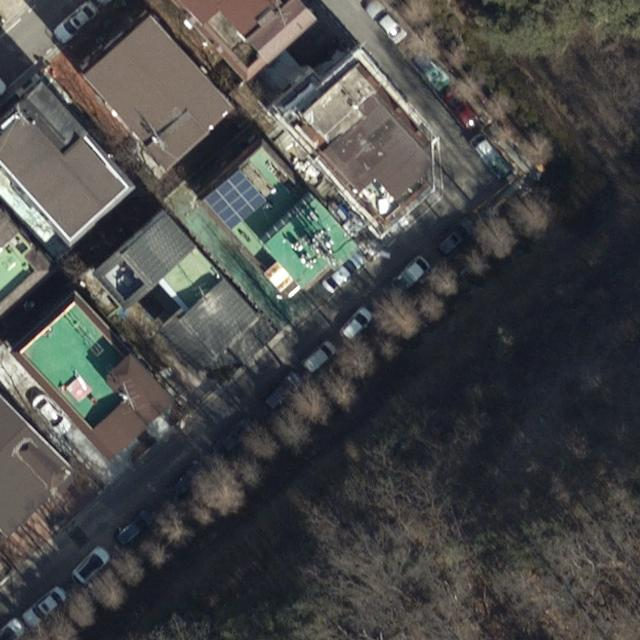solarpanel: (200, 166, 270, 231)
